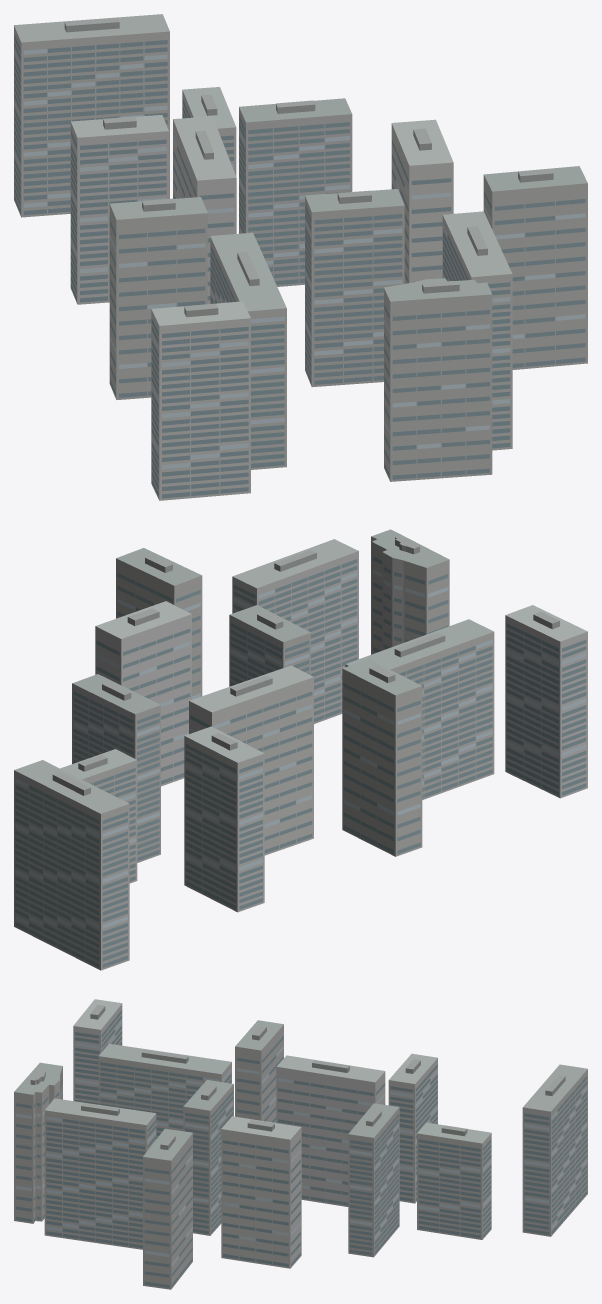
The model's file is apt-a15288812.glb.
The picture shows the model from 3 angles, top to bottom: view 1: azimuth 30°, elevation 25°; view 2: azimuth 150°, elevation 25°; view 3: azimuth 270°, elevation 25°; orthographic projection. The views are drawn at different scales.
Parts seen in each view (by area): view 1: apt-a15288812; view 2: apt-a15288812; view 3: apt-a15288812.
Part boxes in pixels (x1,y1,x2,y2): apt-a15288812: [14, 14, 587, 500]; apt-a15288812: [14, 529, 587, 970]; apt-a15288812: [14, 999, 587, 1289].
Size of the model in its own units: 186 by 70 by 273.
